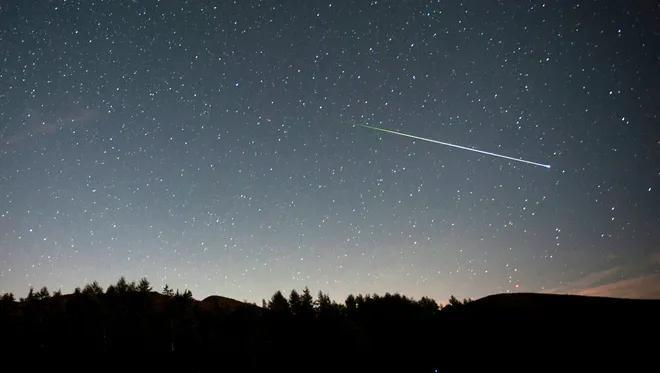meteorite: (344, 116, 560, 170)
